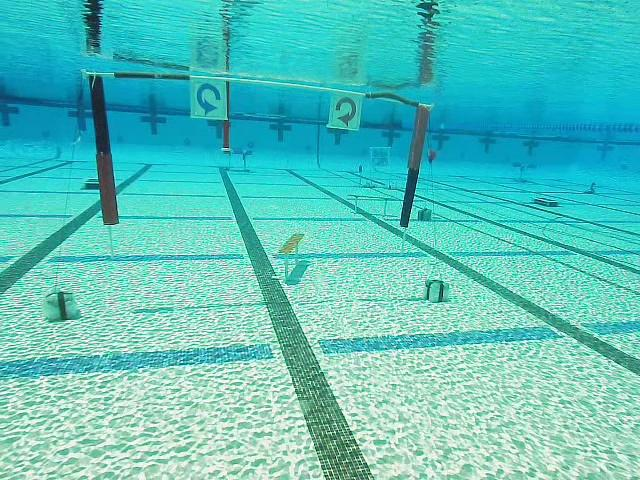dropper: (533, 194, 559, 207)
gate: (85, 71, 432, 228)
gate_blue: (189, 78, 228, 119)
gate_leg_l: (84, 72, 121, 226)
gate_leg_r: (399, 103, 432, 228)
gate_red: (328, 92, 363, 130)
table: (221, 146, 255, 173), (511, 160, 539, 182)
torpedo: (370, 146, 391, 169)
